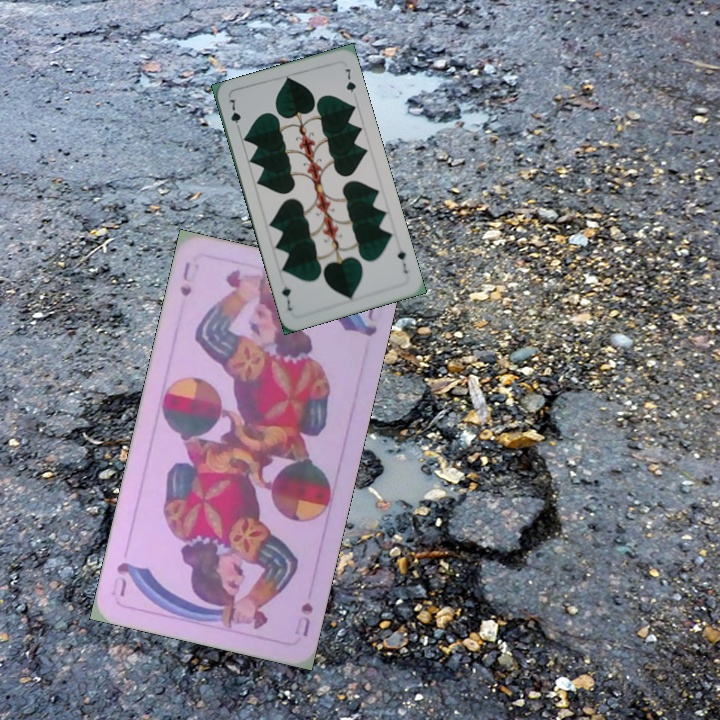G7: (225, 94, 244, 134), (393, 246, 411, 276)
SU: (176, 257, 202, 299), (297, 598, 316, 639)
